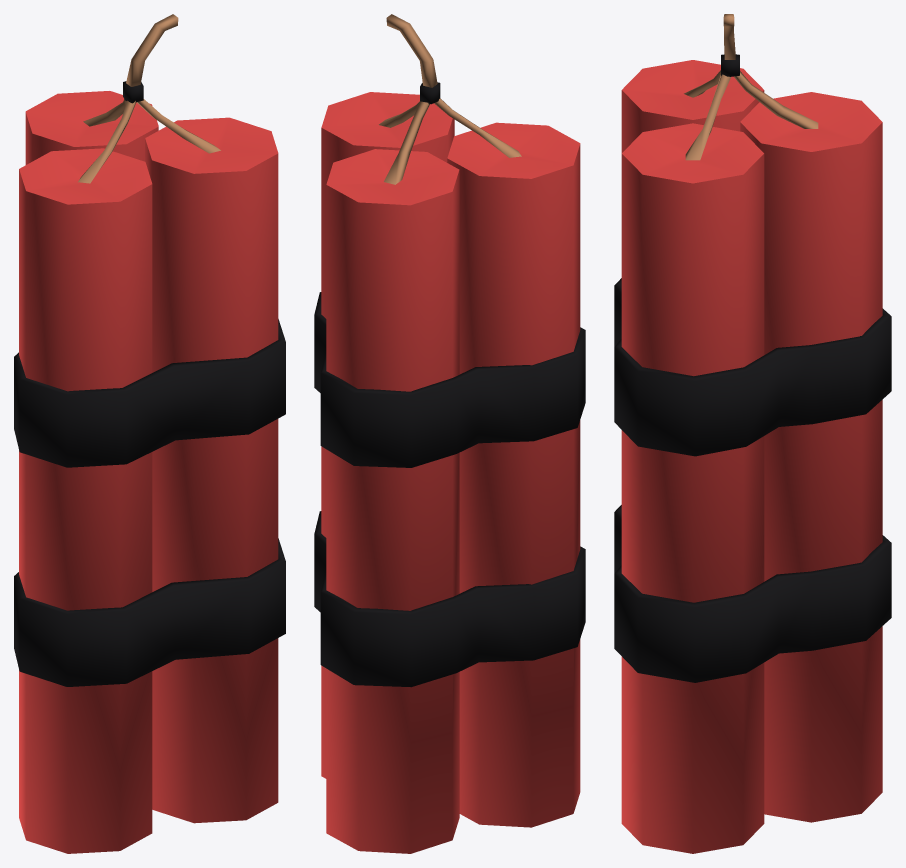
Rendered from Dinamite_Maco.fbx.
The picture shows the model from 3 angles, left to right: view 1: azimuth 30°, elevation 25°; view 2: azimuth 150°, elevation 25°; view 3: azimuth 270°, elevation 25°; orthographic projection. The views are drawn at different scales.
Parts seen in each view (by area): view 1: Dinamite_Maco; view 2: Dinamite_Maco; view 3: Dinamite_Maco.
Part boxes in pixels (x1,y1,x2,y2): Dinamite_Maco: [14, 14, 285, 853]; Dinamite_Maco: [314, 14, 585, 853]; Dinamite_Maco: [614, 14, 891, 853].
Bounding box in the file's own units: 0.1427 × 0.1285 × 0.4073.
